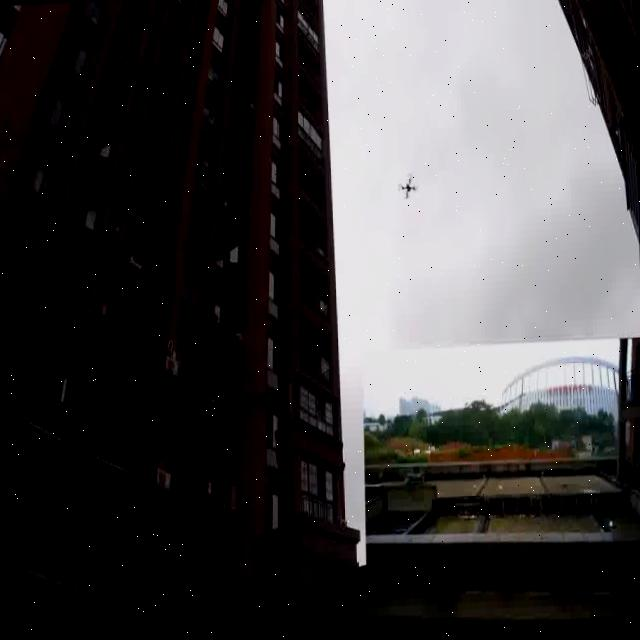drone: (389, 163, 424, 208)
